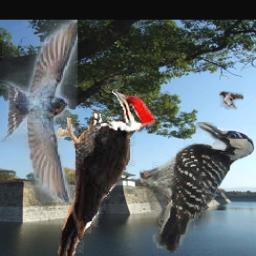Swallow: (0, 20, 78, 203), (220, 91, 244, 110)
Woodpecker: (59, 85, 156, 256), (141, 122, 256, 253)
